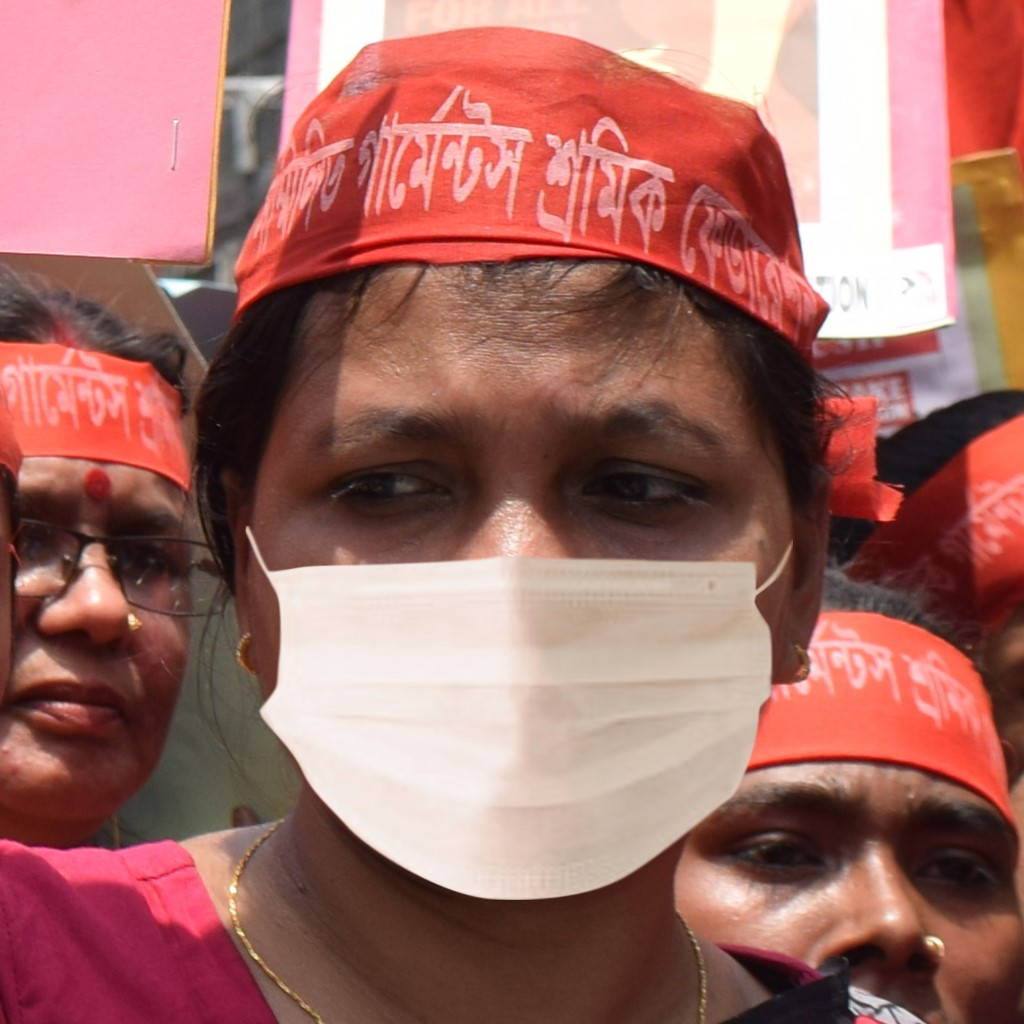con_mascara: (207, 130, 800, 926)
